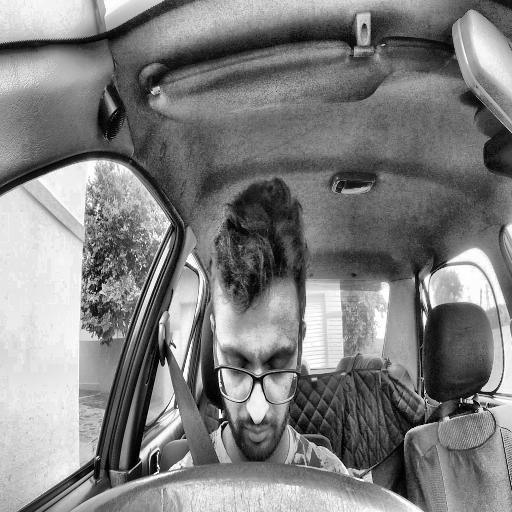drowsy: (210, 179, 308, 462)
